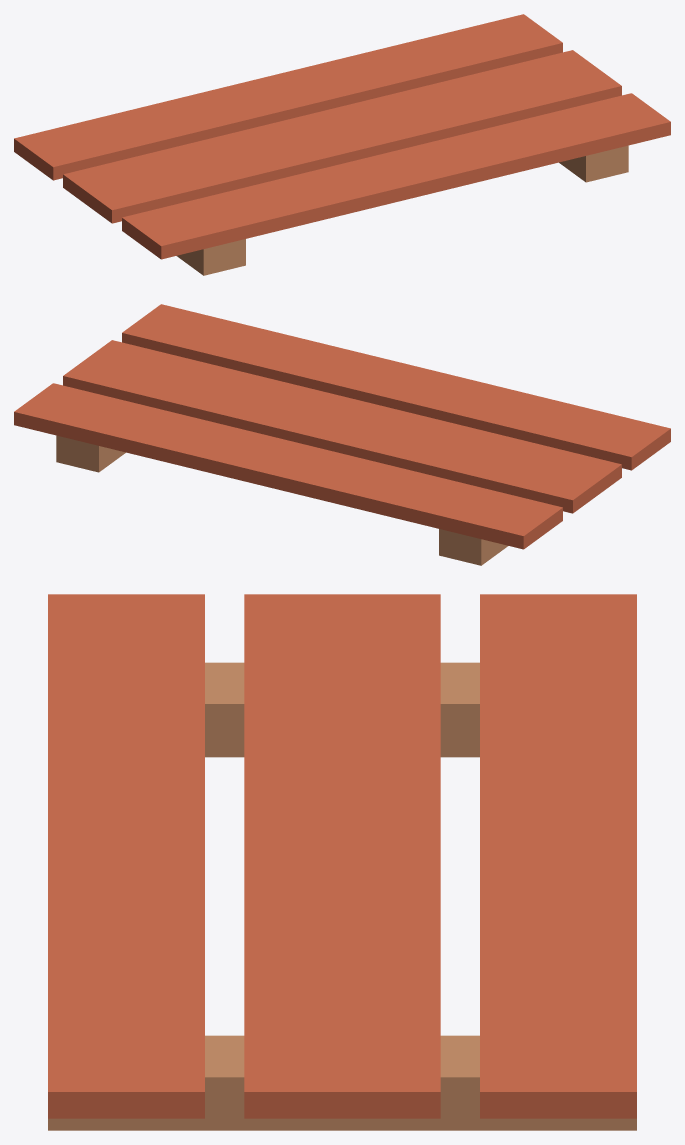
Rendered from WoodenPlatform_01.fbx.
3 renders of one model, top to bottom at view 1: azimuth 30°, elevation 25°; view 2: azimuth 150°, elevation 25°; view 3: azimuth 270°, elevation 25°, orthographic. The views are drawn at different scales.
Visible parts, largest first — view 1: mergedBlocks; view 2: mergedBlocks; view 3: mergedBlocks.
Part boxes in pixels (x1,y1,x2,y2): mergedBlocks: (14, 14, 670, 275); mergedBlocks: (14, 304, 670, 565); mergedBlocks: (48, 594, 636, 1130).
Size of the model in its own units: 50 by 3.75 by 25.
